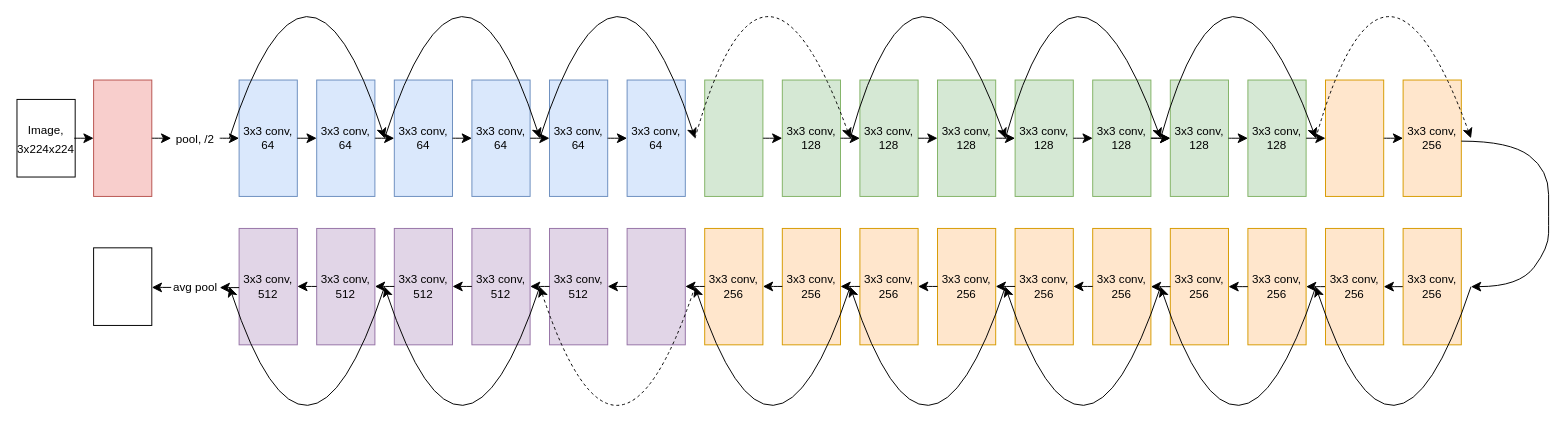
This 1566x423 diagram has some shape labels left out. The centre of each missing label's shape, as x and y in pixels:
3x3 conv, 128,/2: the point at 733,137
3x3 conv, 256, /2: the point at 1354,137
3x3 conv, 512. /2: the point at 655,286
7x7 conv, 64, /2: the point at 122,137
Feature Vector, 1x2048: the point at 122,286
